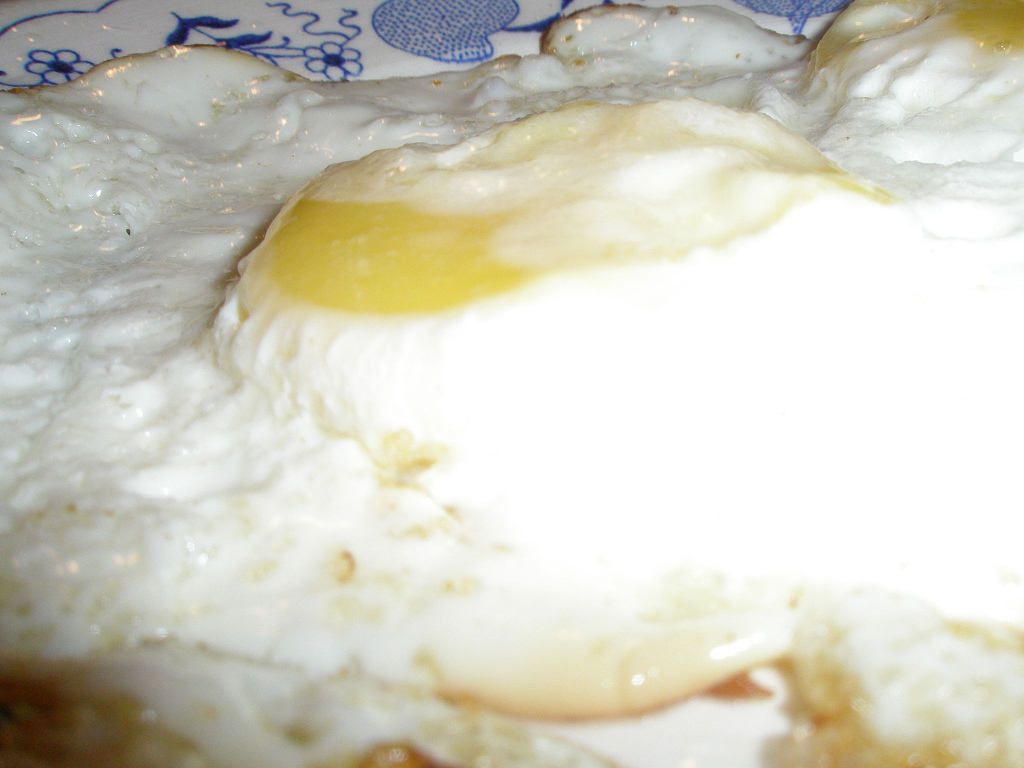fried egg: (1, 46, 1024, 717)
